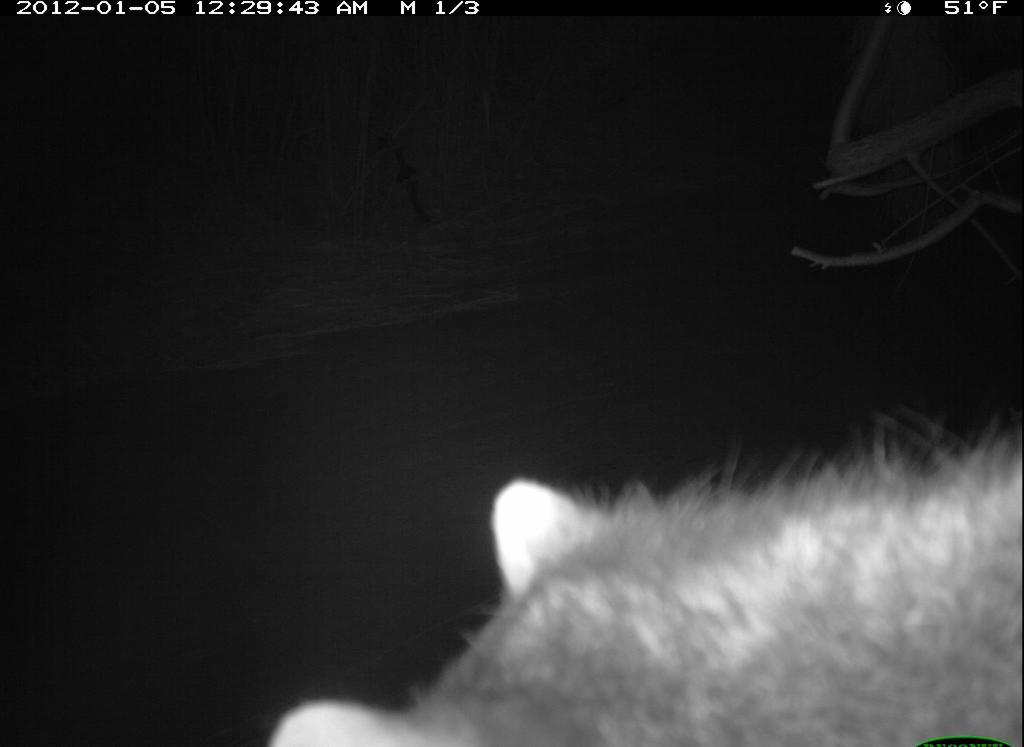raccoon: (259, 414, 1019, 742)
